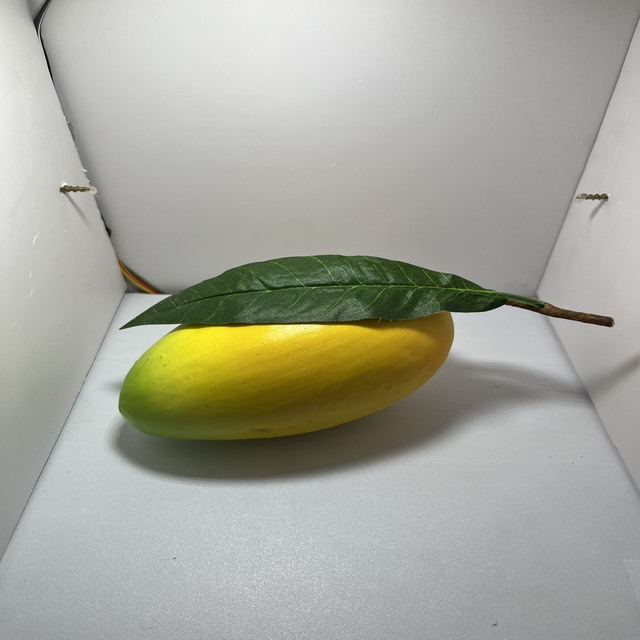Xoai: (115, 245, 458, 450)
